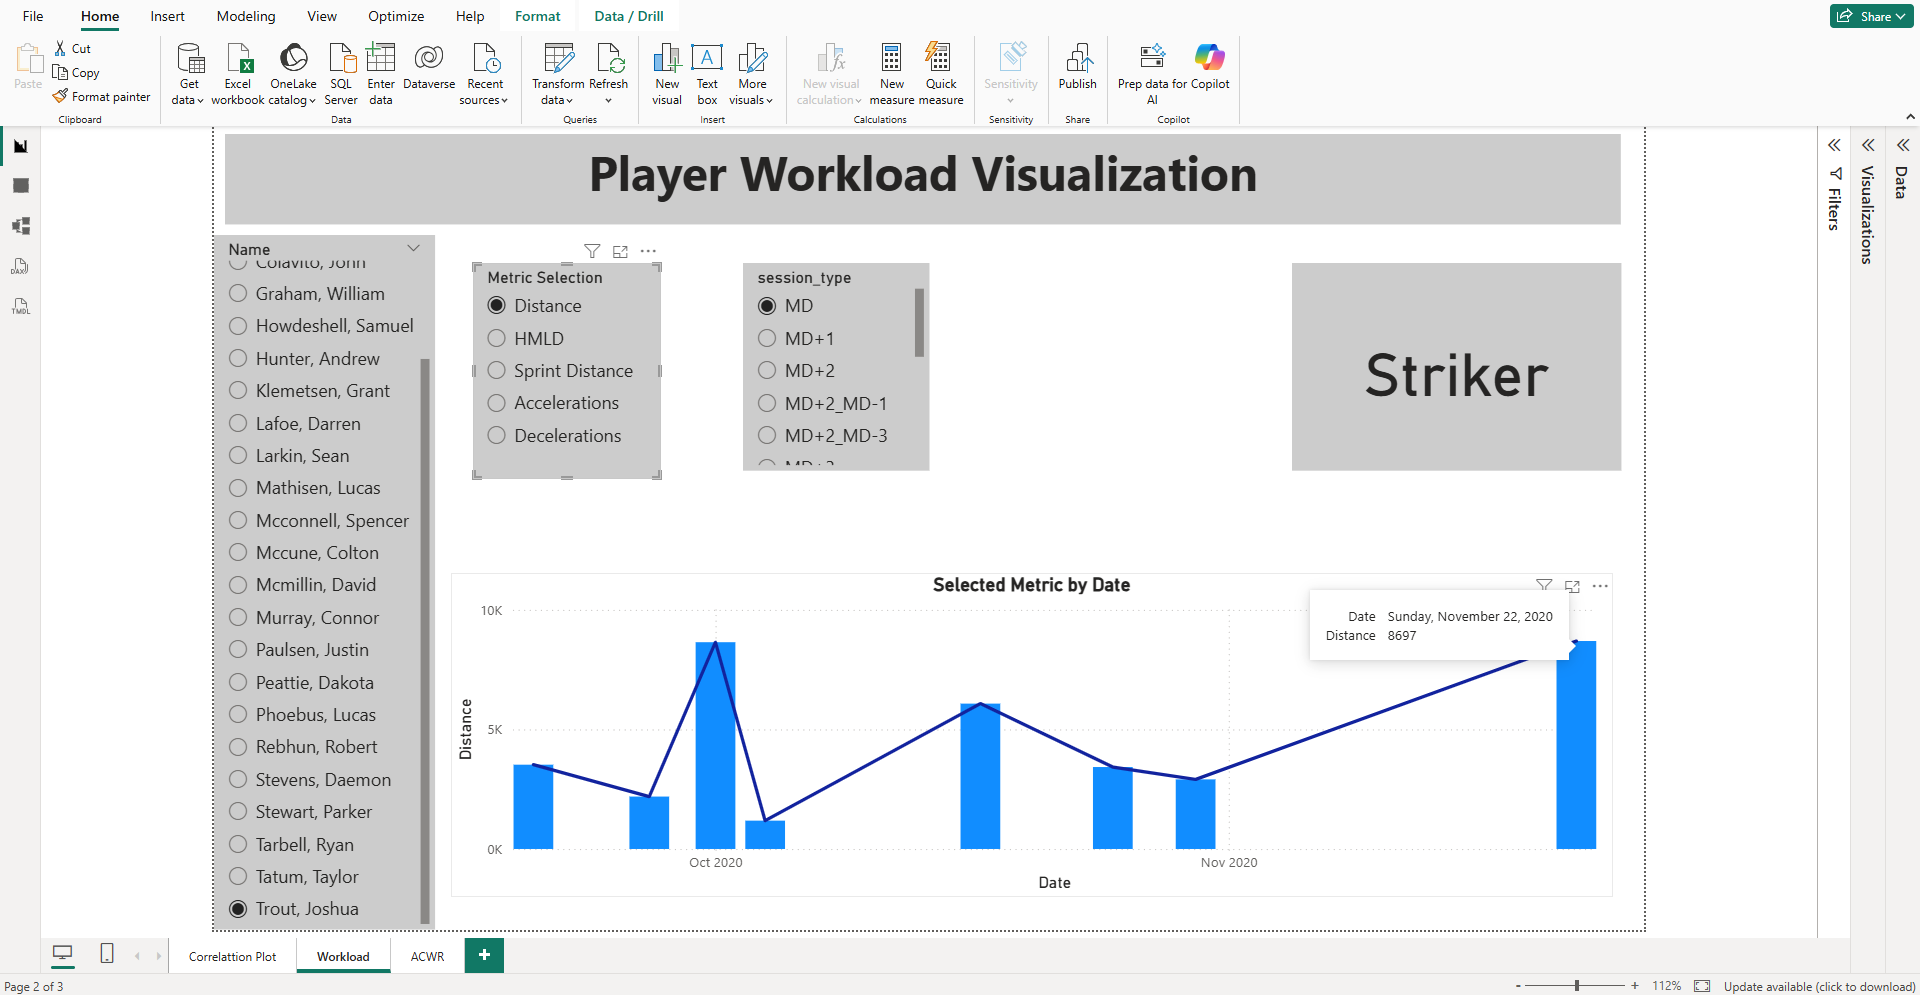

The page's visual inventory and layout, read from the dashboard file:
{"tool":"powerbi","page":{"name":"Workload","canvas":[1280,720],"ordinal":1},"visuals":[{"type":"slicer","fields":{"Values":["daily_gps_data.Name"]},"box":[0,97.6,197.9,622.4],"z":2000},{"type":"textbox","box":[9.9,7.2,1250.1,80.6],"z":2001},{"type":"lineStackedColumnComboChart","title":"Selected Metric by Date","fields":{"Category":["daily_gps_data.Date"],"Y":["daily_gps_data.Total HMLD"],"Y2":["daily_gps_data.Total HMLD"]},"box":[212.2,400.3,1040.6,290.1],"z":2002},{"type":"slicer","fields":{"Values":["daily_gps_data.session_type"]},"box":[473.7,122.7,166.6,186.3],"z":2003},{"type":"slicer","fields":{"Values":["Metric Selection.Metric Selection"]},"box":[231.9,122.7,168.4,193.4],"z":2004},{"type":"card","fields":{"Values":["Min(daily_gps_data.Position)"]},"box":[965.4,122.7,294.6,186.3],"z":2005}]}

Visuals, with their boxes on the page's 1280x720 design canvas (x1, y1, x2, y2). These are canvas units, not pixel positions in the 1920x995 screenshot, which may show the page scaled, cropped or inside an application window:
slicer - daily_gps_data.Name: 0,98,198,720
textbox: 10,7,1260,88
"Selected Metric by Date" lineStackedColumnComboChart: 212,400,1253,690
slicer - daily_gps_data.session_type: 474,123,640,309
slicer - Metric Selection.Metric Selection: 232,123,400,316
card - Min(daily_gps_data.Position): 965,123,1260,309
